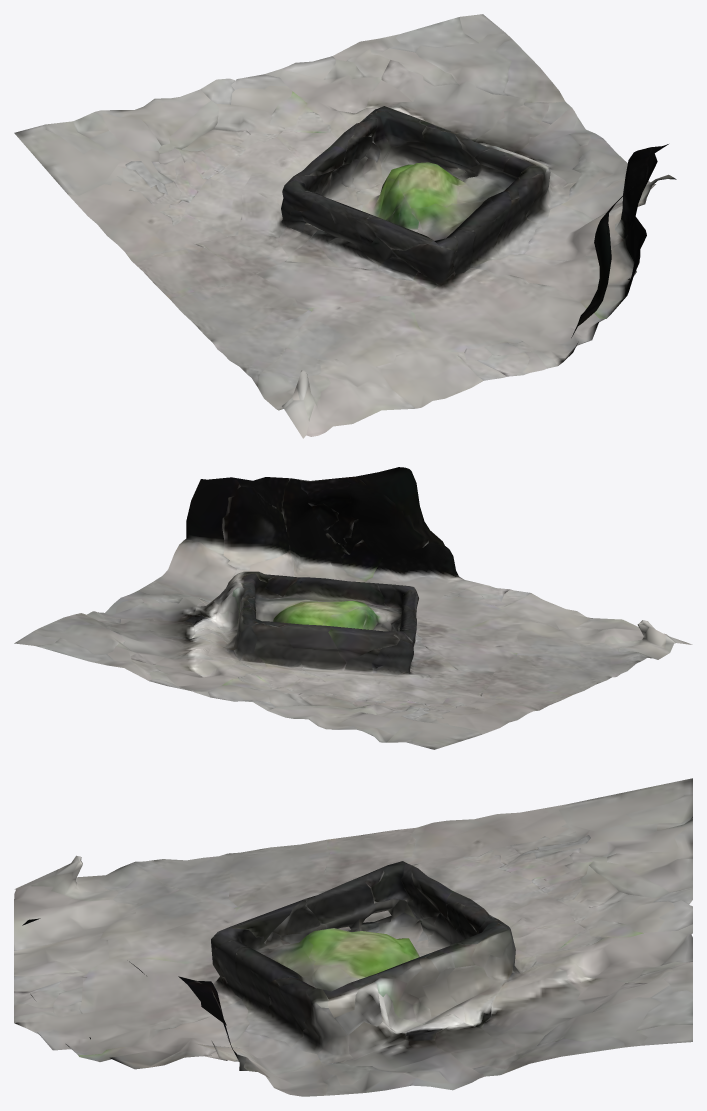
The model's file is hall.glb.
The picture shows the model from 3 angles, top to bottom: view 1: azimuth 30°, elevation 25°; view 2: azimuth 150°, elevation 25°; view 3: azimuth 270°, elevation 25°; orthographic projection. The views are drawn at different scales.
Size of the model in its own units: 1.87 by 0.5118 by 1.99.
Materials: 1 (1 with a texture image).
